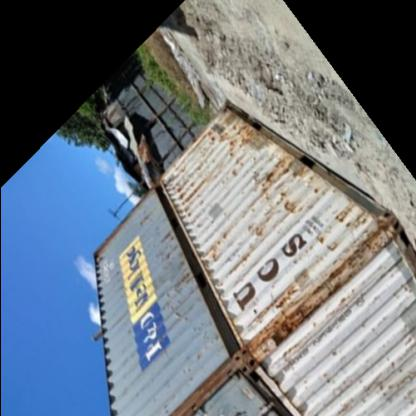Damage: (246, 275, 316, 348), (334, 360, 415, 416), (249, 155, 313, 215), (152, 226, 196, 304), (168, 159, 209, 222), (313, 207, 365, 256), (223, 123, 254, 173), (222, 251, 254, 279), (202, 230, 228, 262), (165, 308, 196, 332), (244, 222, 266, 240), (188, 352, 204, 368), (138, 209, 152, 227), (200, 135, 215, 146)
